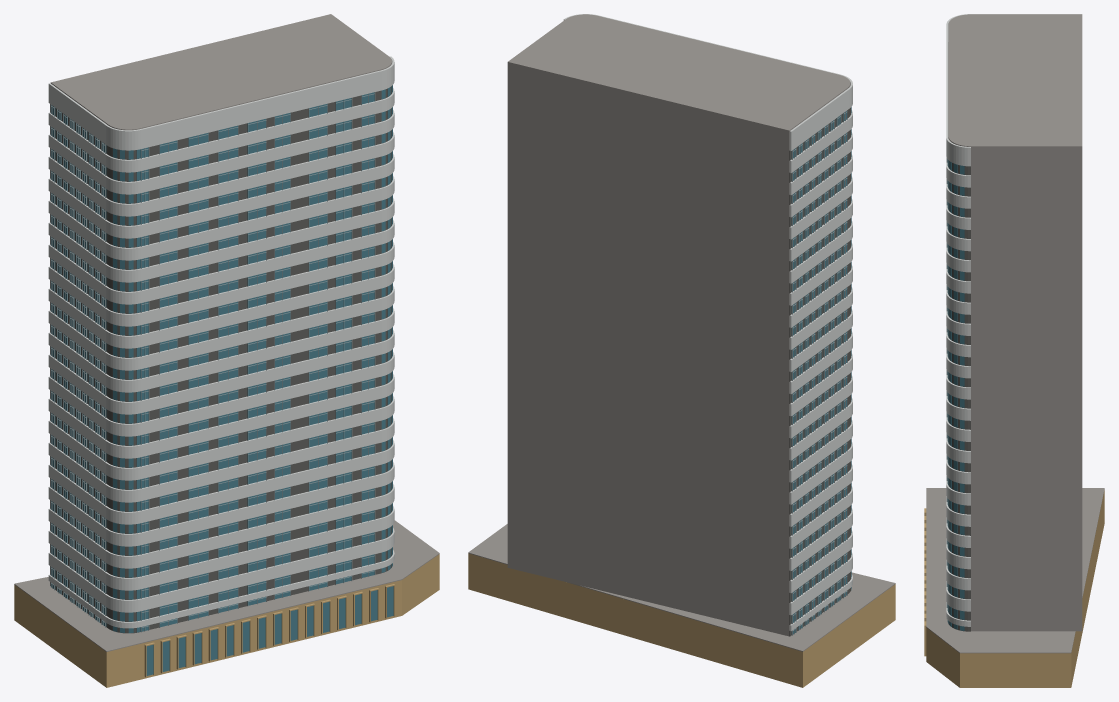
File: light.glb
3 renders of one model, left to right at view 1: azimuth 30°, elevation 25°; view 2: azimuth 150°, elevation 25°; view 3: azimuth 270°, elevation 25°, orthographic. The views are drawn at different scales.
Parts seen in each view (by area): view 1: Silver_band_00, Front_glass_00_00, Dark_band_00, Tower_HOLD_depth_and_rear, Front_mullion_00_00_-0.75, Podium_closed_mass; view 2: Tower_HOLD_depth_and_rear, Silver_band_00, Podium_closed_mass, Front_mullion_00_00_-0.75, Front_glass_00_00, Dark_band_00; view 3: Tower_HOLD_depth_and_rear, Silver_band_00, Podium_closed_mass, Dark_band_00, Front_glass_00_00.
Part boxes in pixels (box(x1,y1,x2,y2)): Silver_band_00: box(48, 56, 394, 628); Front_glass_00_00: box(51, 85, 393, 675); Dark_band_00: box(50, 86, 391, 633); Tower_HOLD_depth_and_rear: box(14, 14, 439, 651); Front_mullion_00_00_-0.75: box(50, 92, 375, 632); Podium_closed_mass: box(14, 554, 439, 687); Tower_HOLD_depth_and_rear: box(468, 14, 895, 651); Silver_band_00: box(563, 14, 852, 631); Podium_closed_mass: box(468, 553, 895, 687); Front_mullion_00_00_-0.75: box(792, 110, 847, 635); Front_glass_00_00: box(791, 107, 851, 634); Dark_band_00: box(789, 107, 850, 636); Tower_HOLD_depth_and_rear: box(926, 14, 1104, 653); Silver_band_00: box(946, 14, 1081, 626); Podium_closed_mass: box(924, 490, 1104, 687); Dark_band_00: box(948, 42, 970, 631); Front_glass_00_00: box(947, 159, 964, 630).
Size of the model in its own units: 70 by 103 by 32.4.
